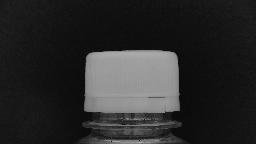Broken Ring: (146, 92, 170, 115)
Loose Cap: (78, 88, 186, 132)
